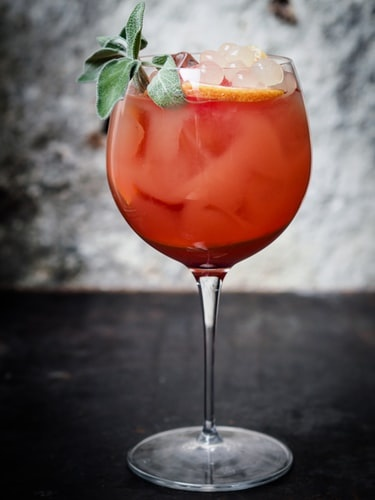whiskey: (116, 58, 302, 480)
